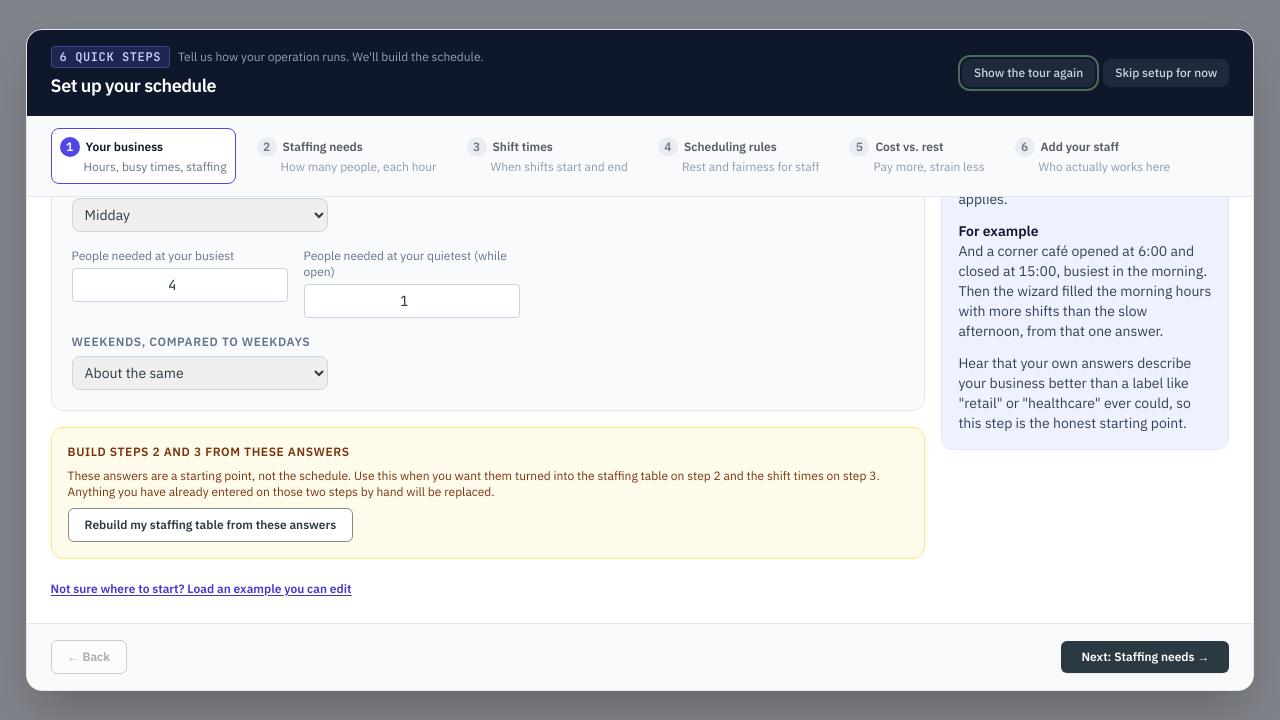
OnboardingWizard preset solve failures › shows the engine failure inside the wizard on the click that loads the preset
(page scrolled)
Click the button "Not sure where to start? Load an example you can edit".
click(201, 589)  # box [51,581,352,597]
(page scrolled)
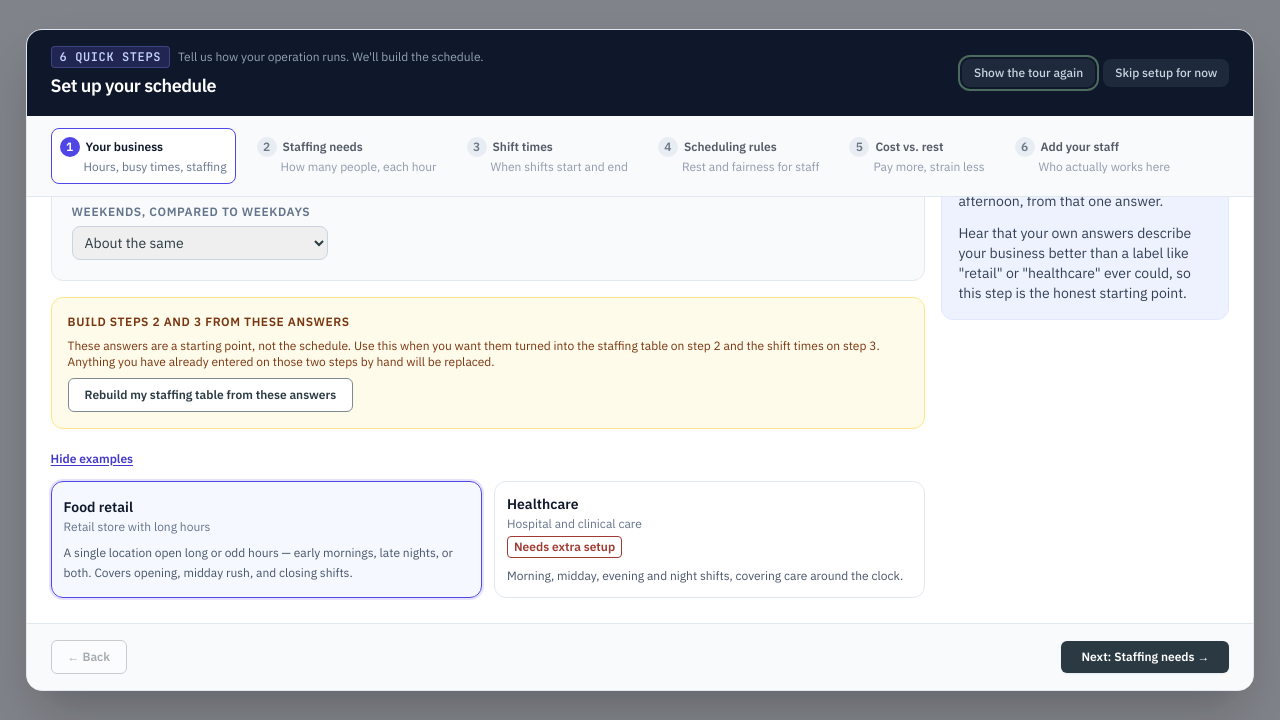
Click the button "Healthcare".
click(543, 504)  # box [494,481,925,598]
(page scrolled)
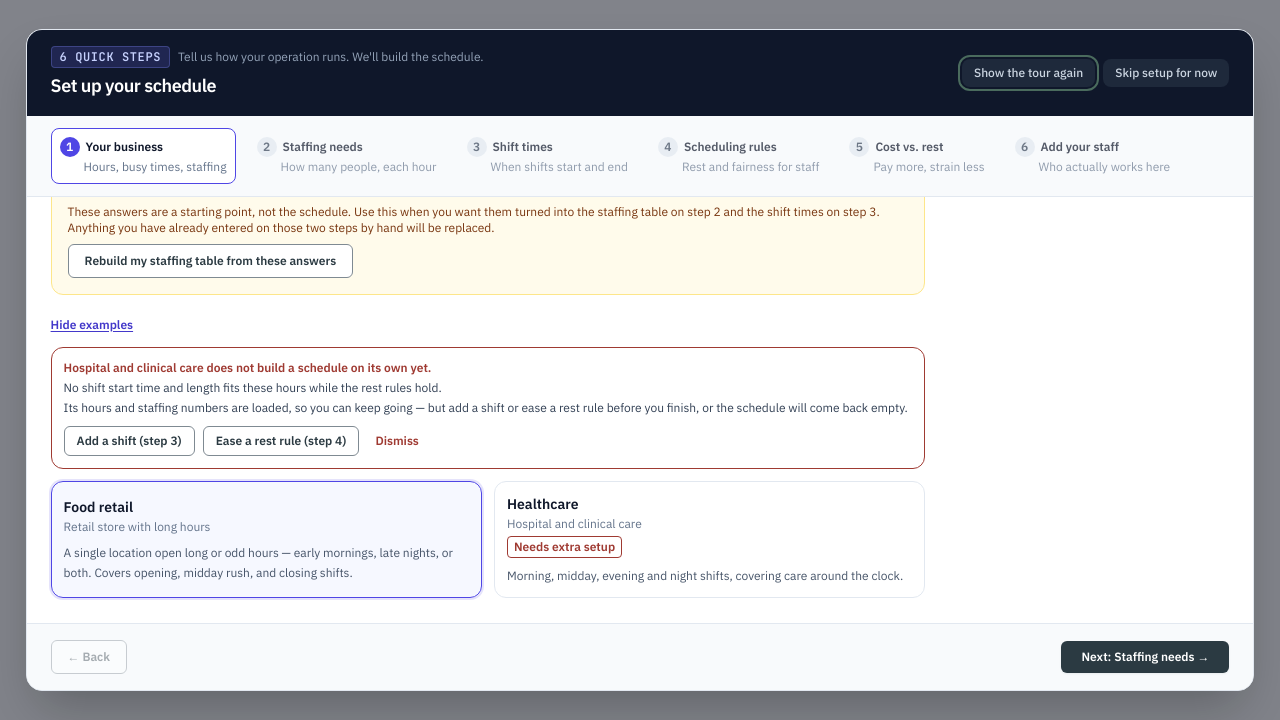
expect the message shows "No shift start time and length fits these hours while the rest rules hold.": met, box [64,380,442,395]
